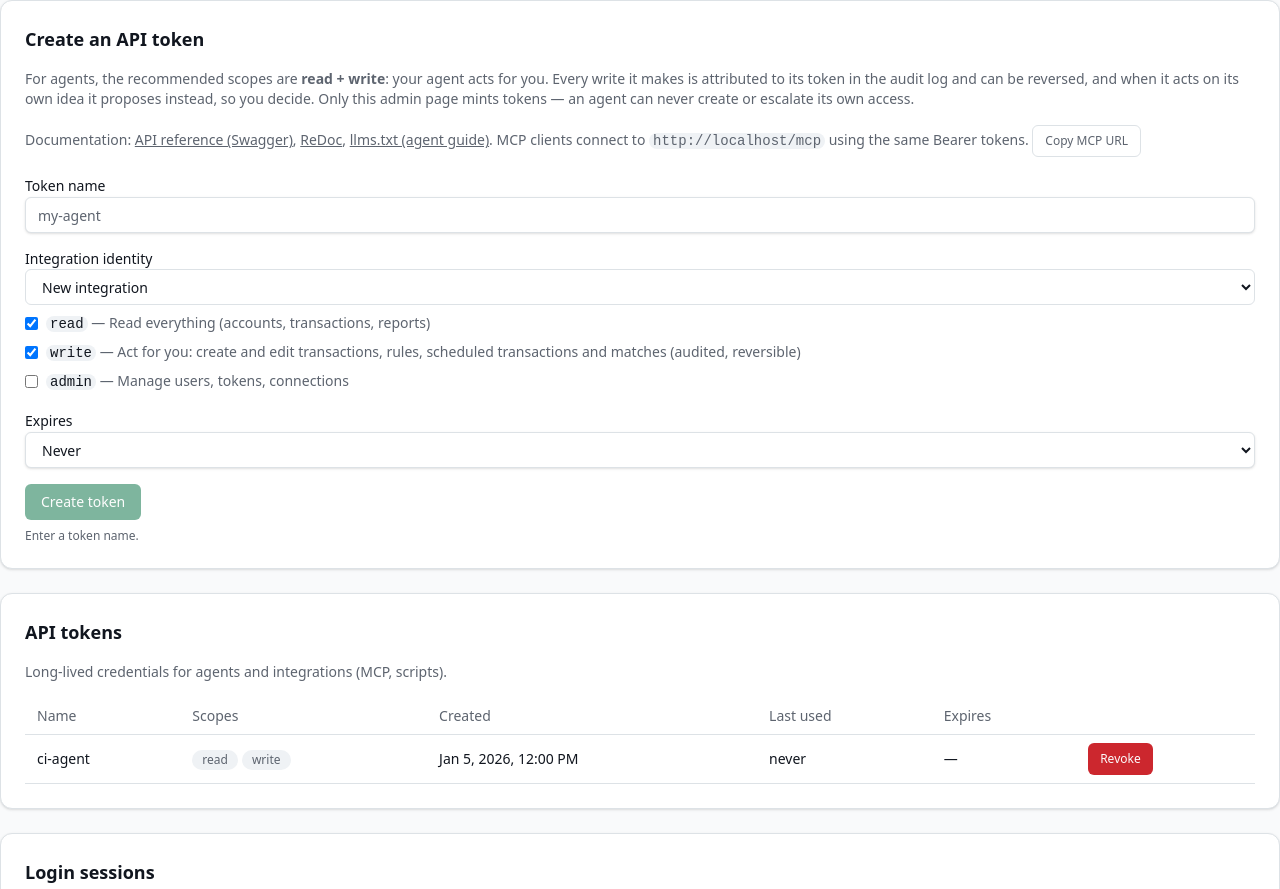
Test: Tokens: revoke › shows a failed revoke instead of failing silently
What coordinates should you click on to do the following:
click the button "Revoke"
I would click on:
 (1120, 759)
Its box is [1088,743,1153,775].
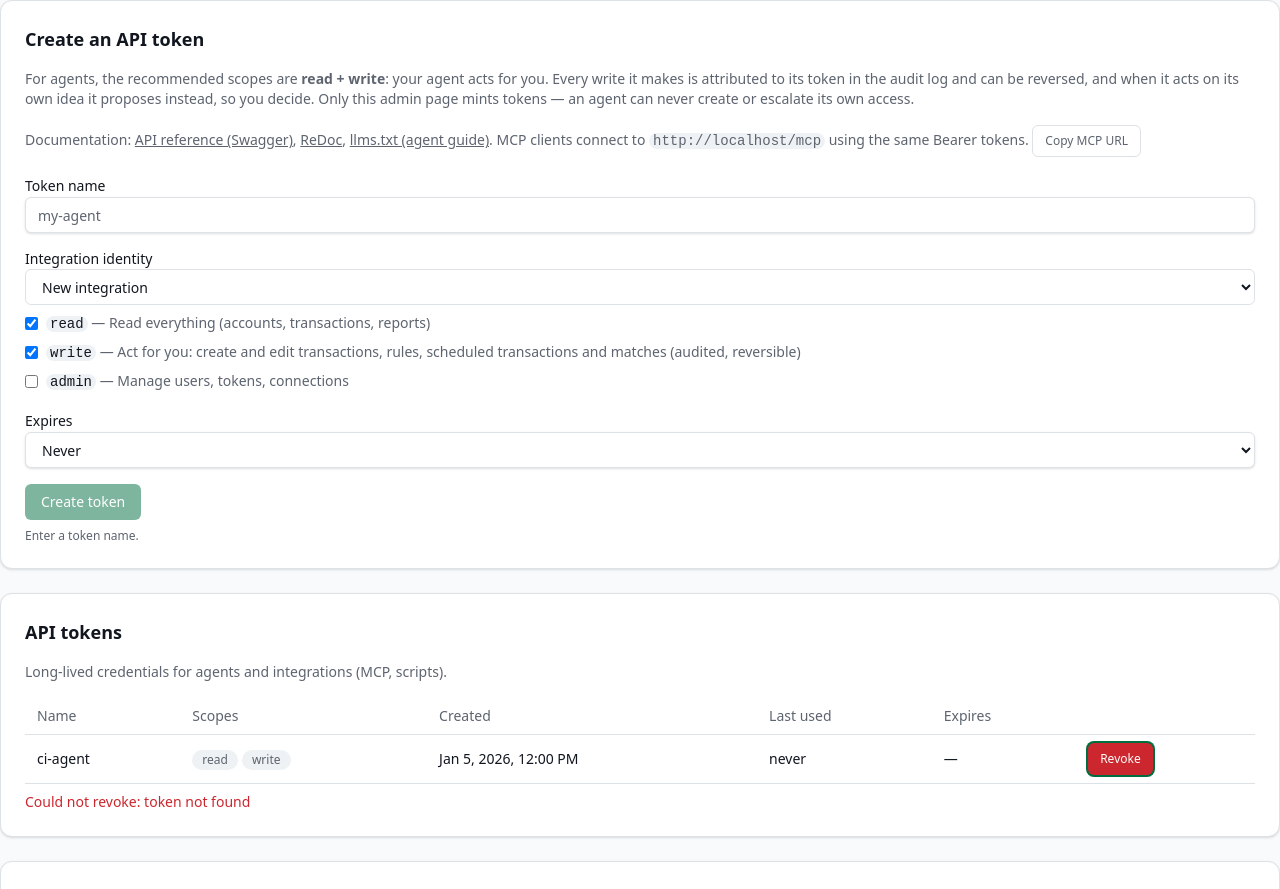
Expected: the text "ci-agent" is shown, [25,734,180,784]
Expected: the message reads "Could not revoke: token not found", [25,792,250,811]
